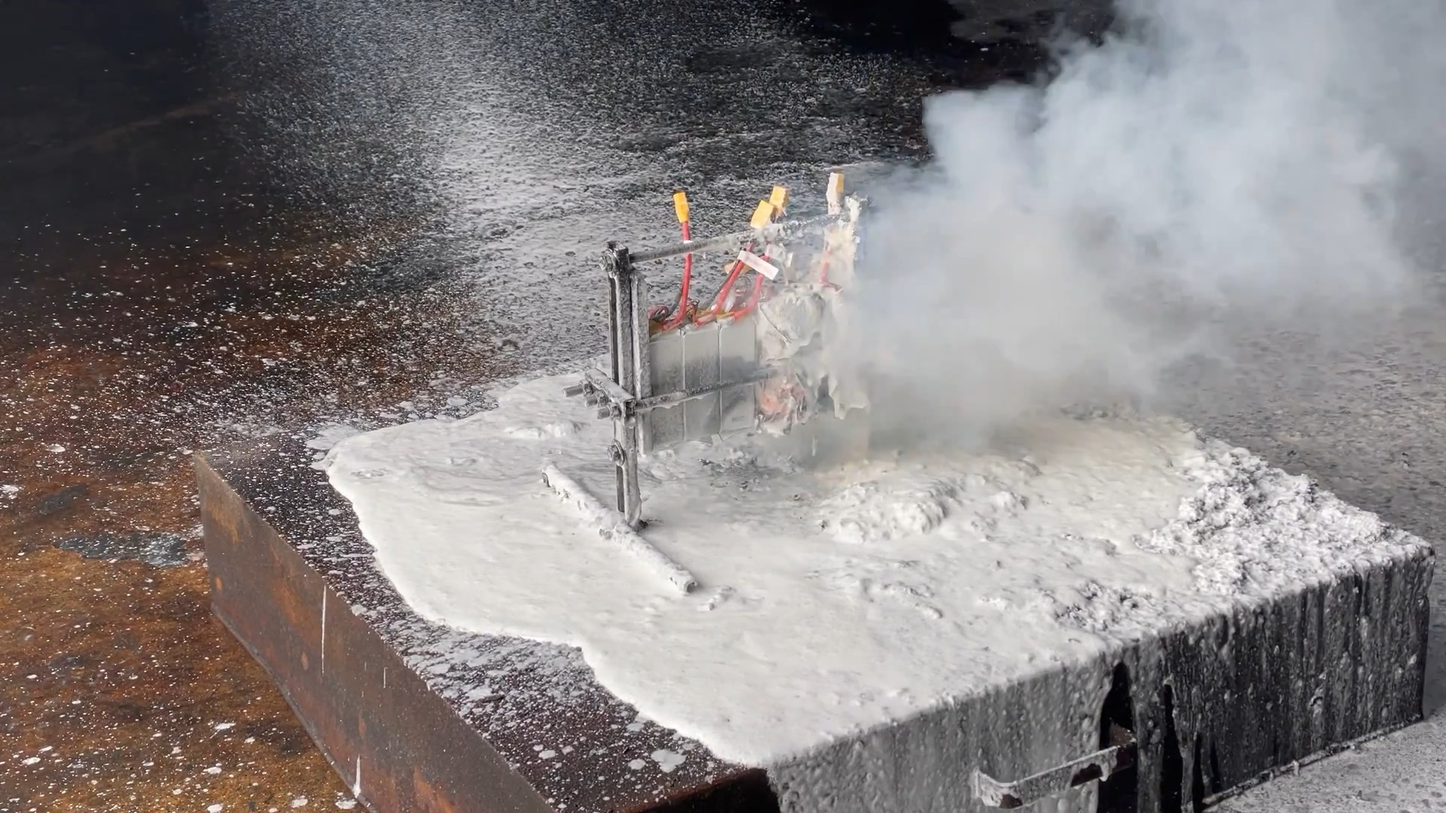smoke: (794, 0, 1446, 455)
